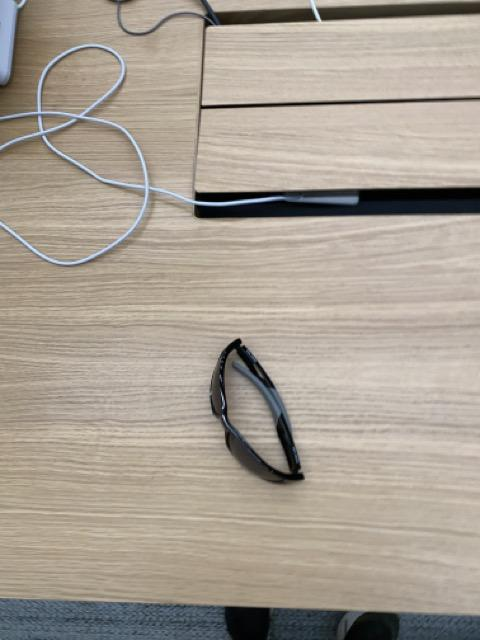Sunglasses: (210, 337, 305, 484)
